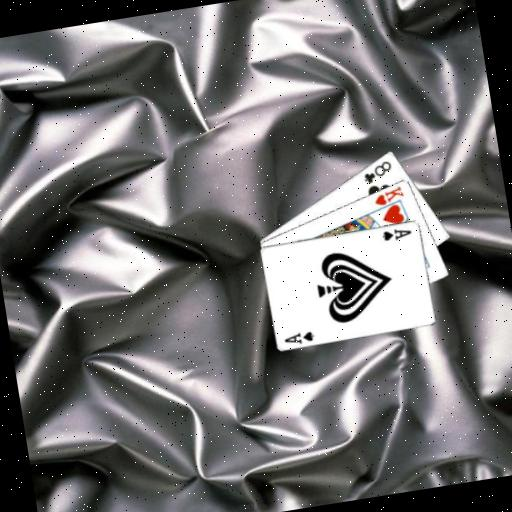8C: (359, 156, 395, 185)
AS: (378, 222, 414, 244), (280, 327, 317, 347)
KH: (369, 182, 406, 208)
